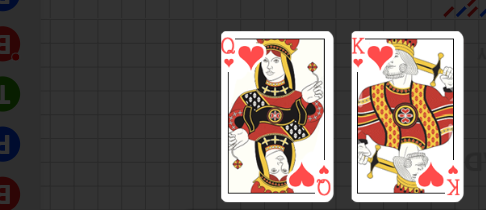9H: (221, 35, 236, 69)
KH: (445, 163, 461, 197)
